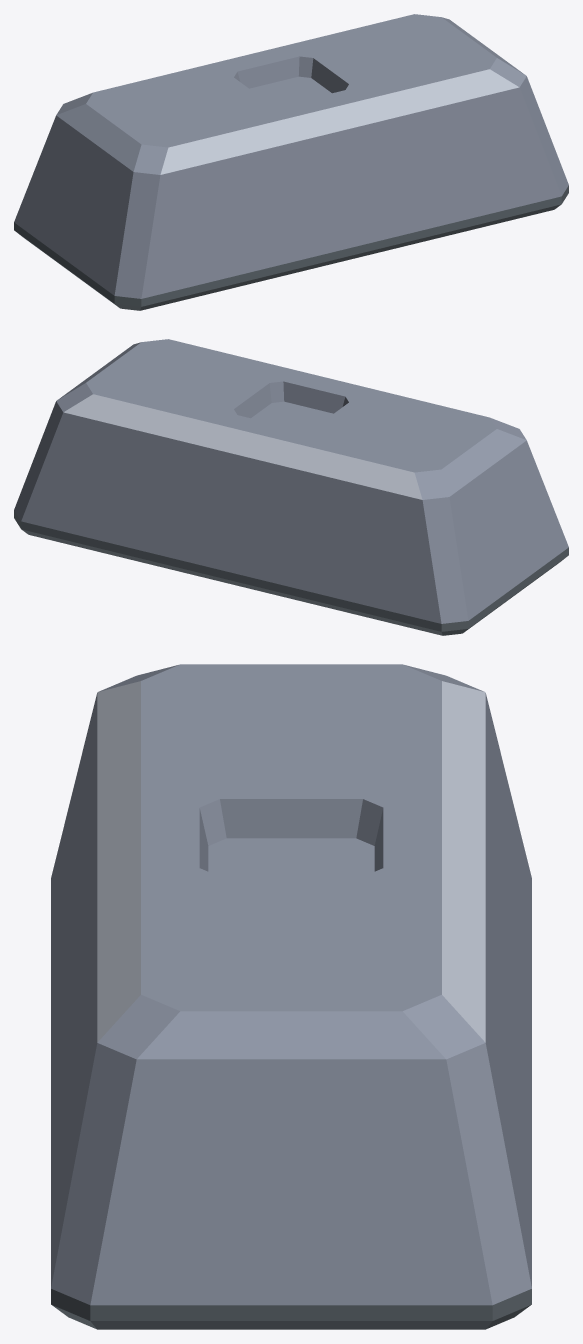
Rendered from iron-ingot-36697d.glb.
3 renders of one model, top to bottom at view 1: azimuth 30°, elevation 25°; view 2: azimuth 150°, elevation 25°; view 3: azimuth 270°, elevation 25°, orthographic. The views are drawn at different scales.
Parts seen in each view (by area): view 1: ingot-body; view 2: ingot-body; view 3: ingot-body.
Boxes of the visible parts, x1,y1,x2,y2 form: ingot-body: (14, 14, 568, 310); ingot-body: (14, 339, 568, 635); ingot-body: (51, 664, 531, 1329).
Size of the model in its own units: 0.24 by 0.07 by 0.11.
